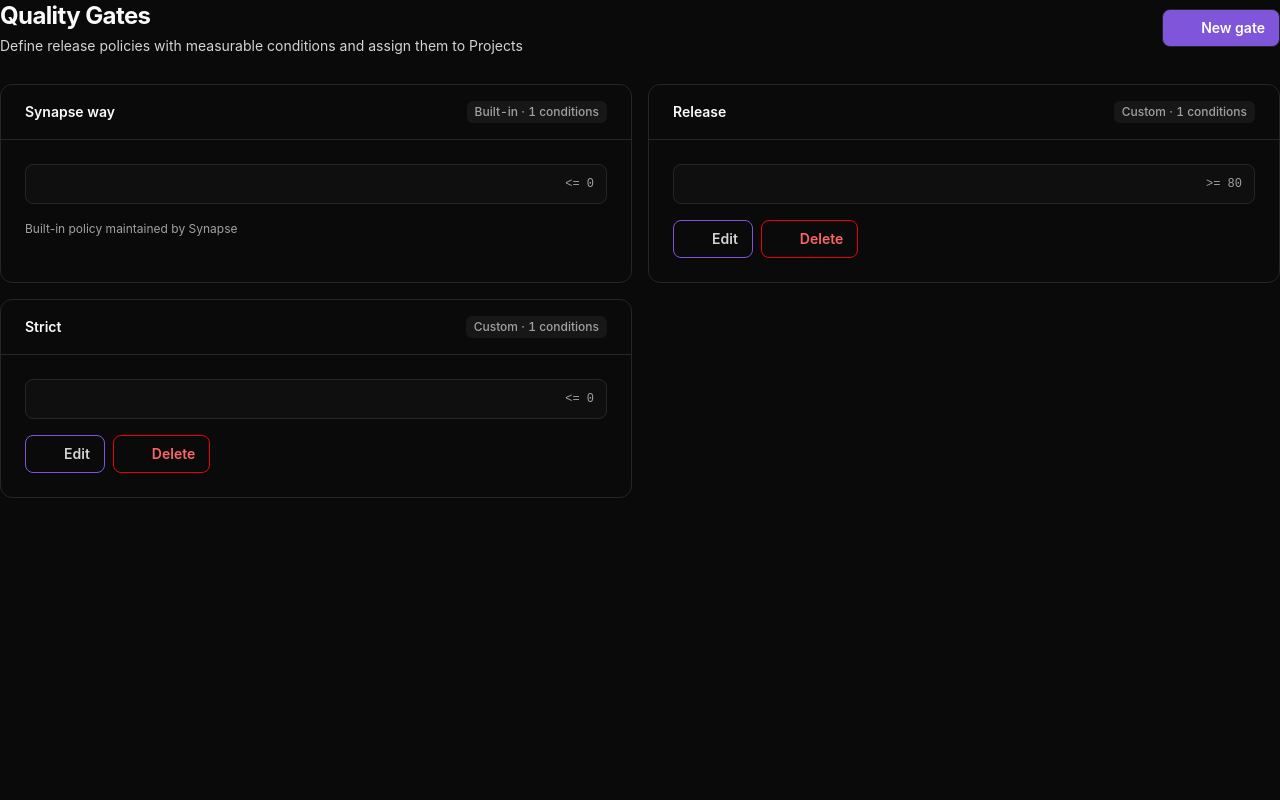
Test: QualityGates › resets the editor when switching custom gates
The image size is (1280, 800).
Expected: the heading "Release" is shown, [673, 102, 726, 122]
Click the 1st button "Edit".
click(713, 239)  # box [673, 220, 753, 258]
(page scrolled)
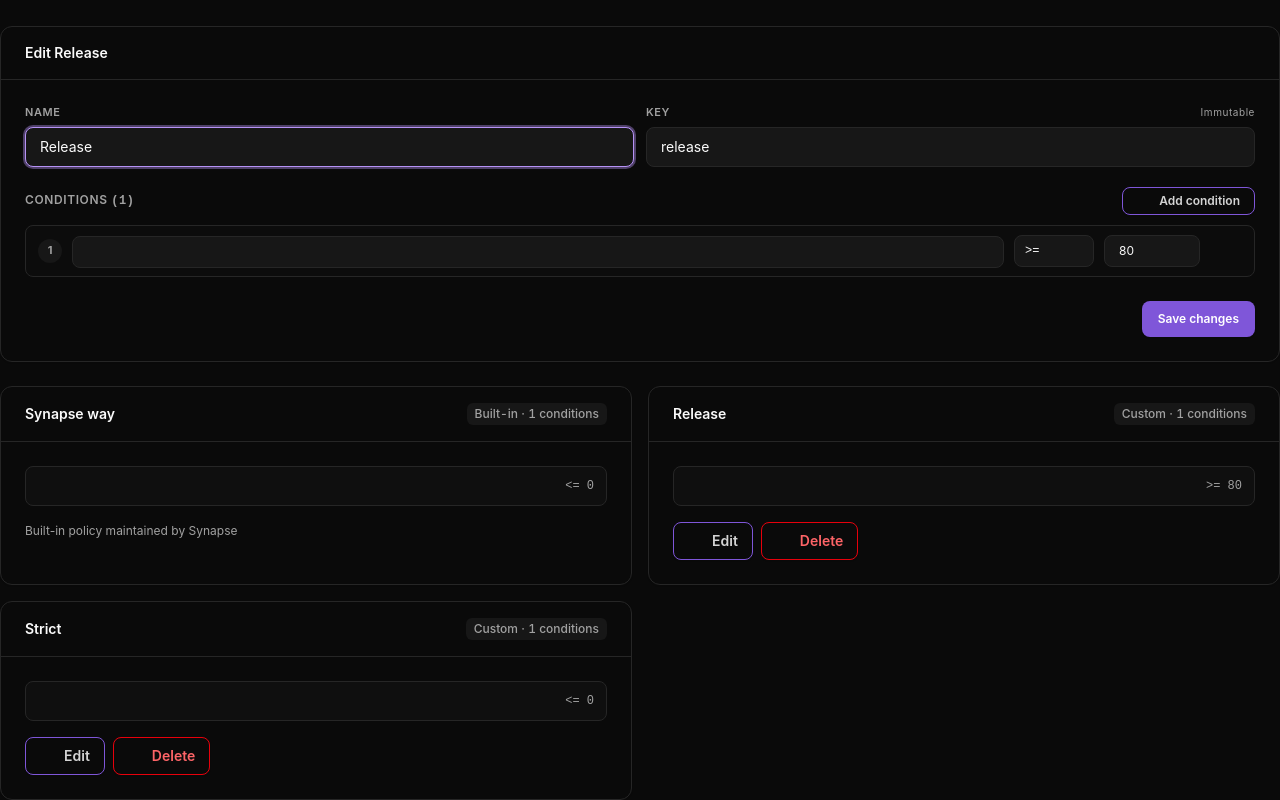
Now the field showing "Release" is shown, box [25, 126, 634, 166]
Click the button "Edit" below "Strict".
click(65, 756)  # box [25, 736, 105, 774]
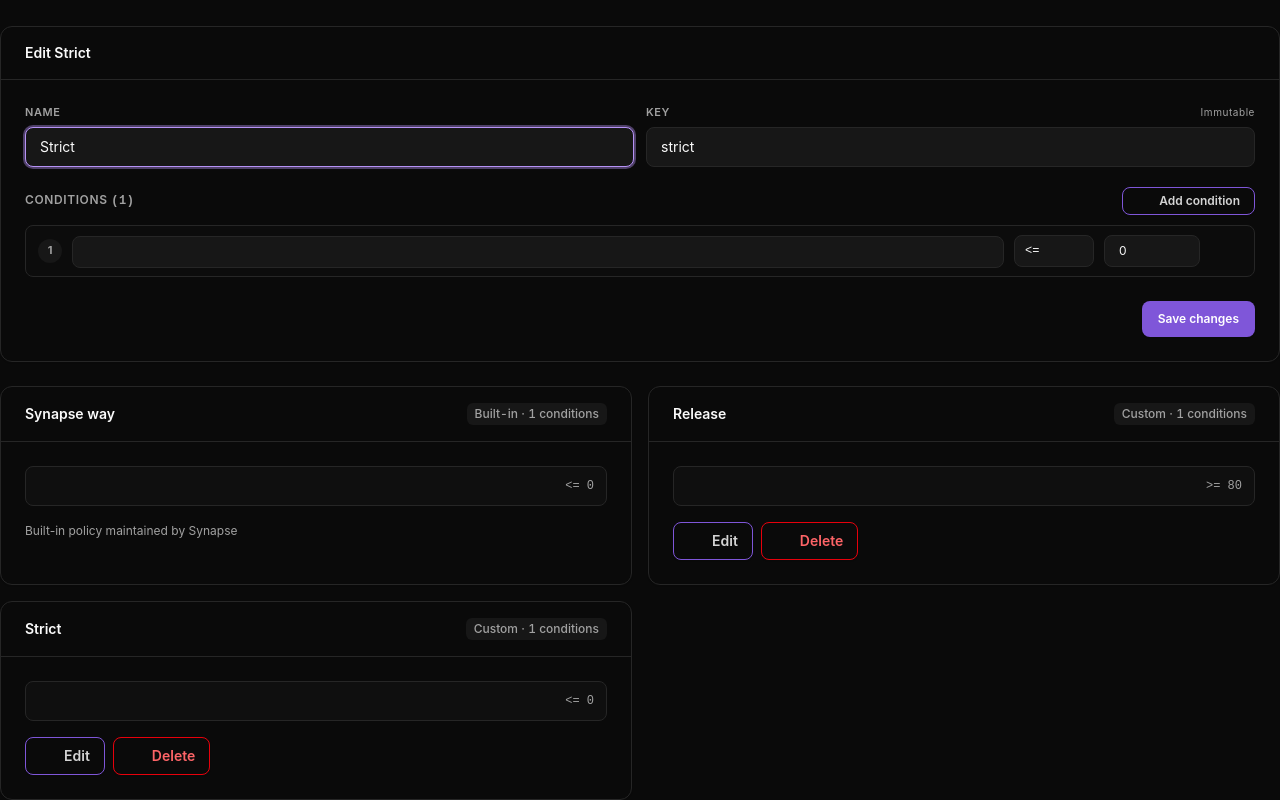
Now the field showing "Strict" is shown, box [25, 126, 634, 166]
Now the field showing "strict" is shown, box [646, 126, 1255, 166]
